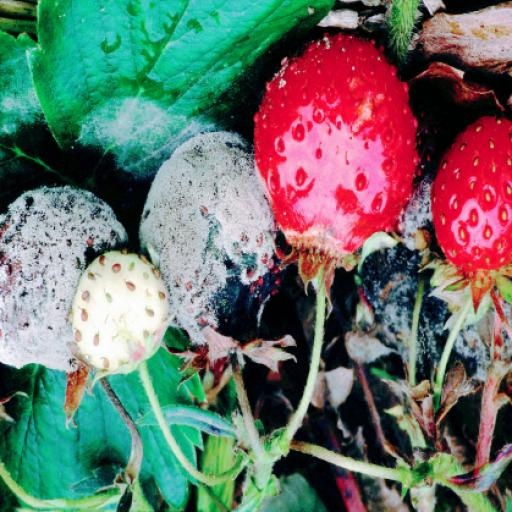Gray Mold: (216, 103, 373, 382), (382, 84, 511, 326)
